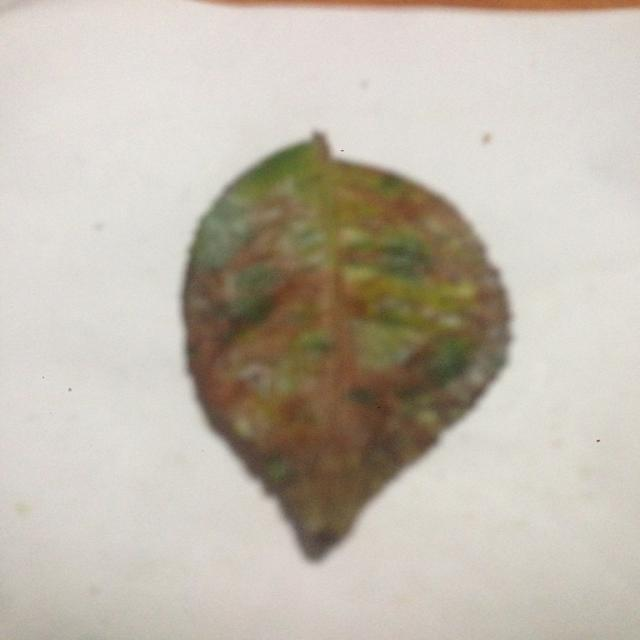Red Leaf Spot: (178, 134, 520, 559)
